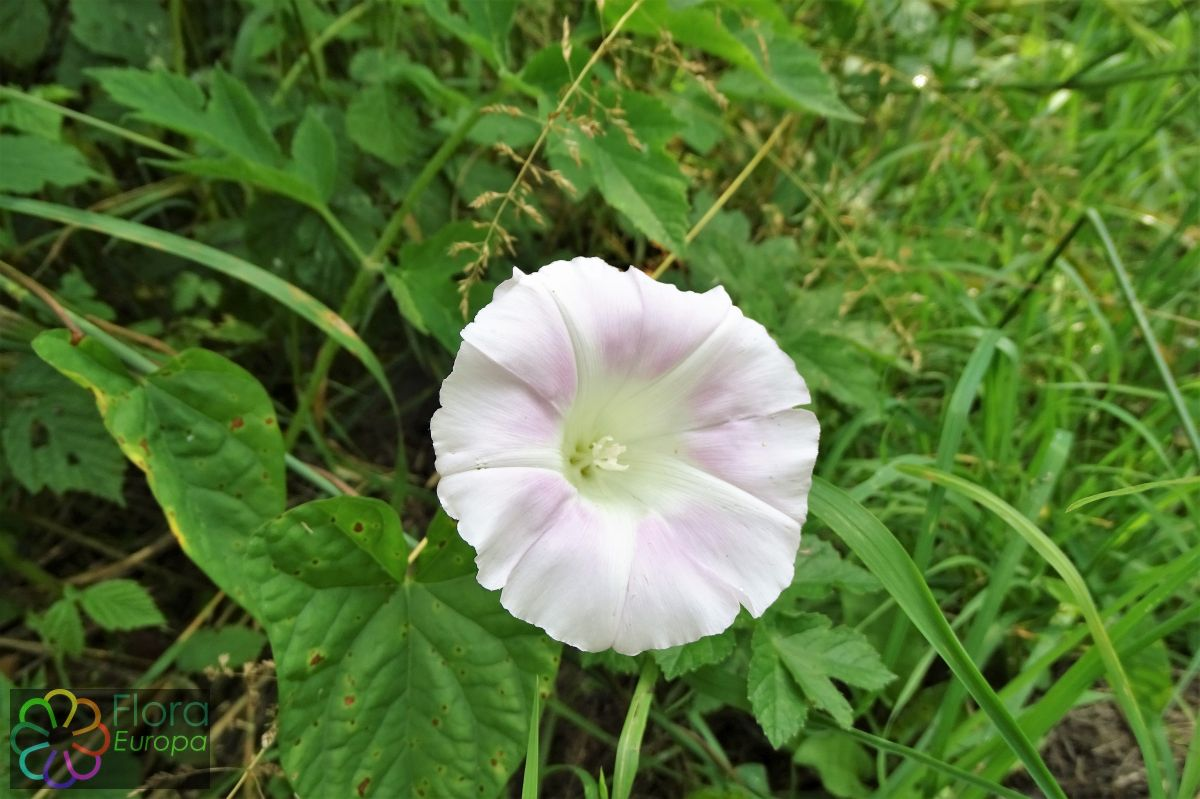haagwinde: (414, 250, 826, 649), (36, 296, 325, 645)
